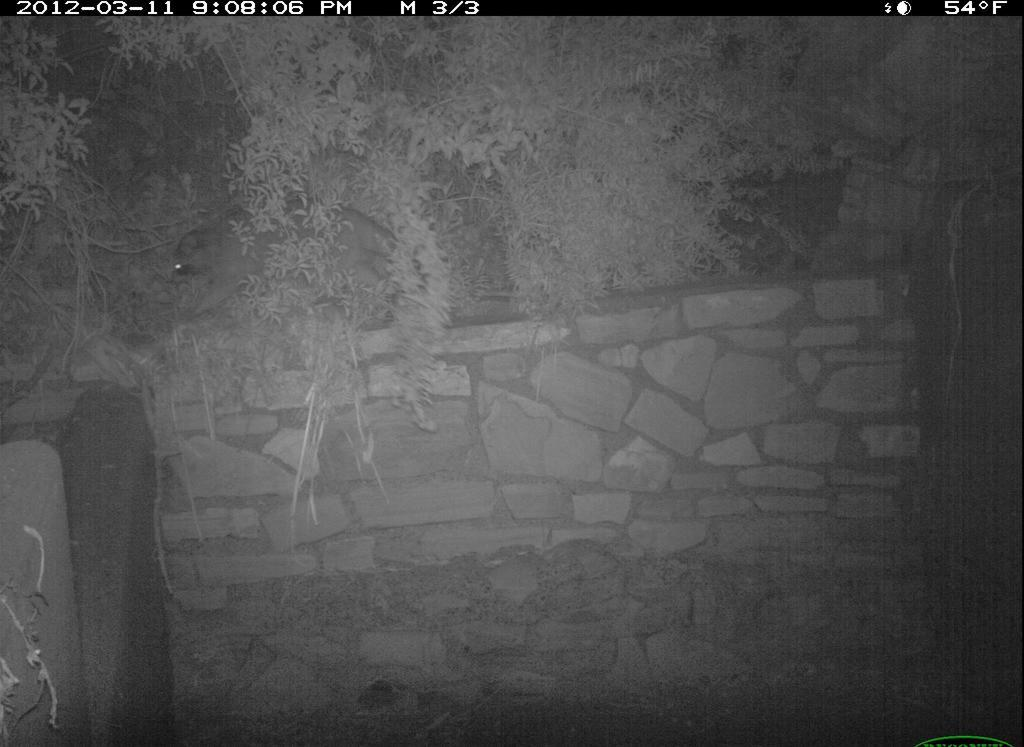raccoon: (167, 198, 420, 318)
